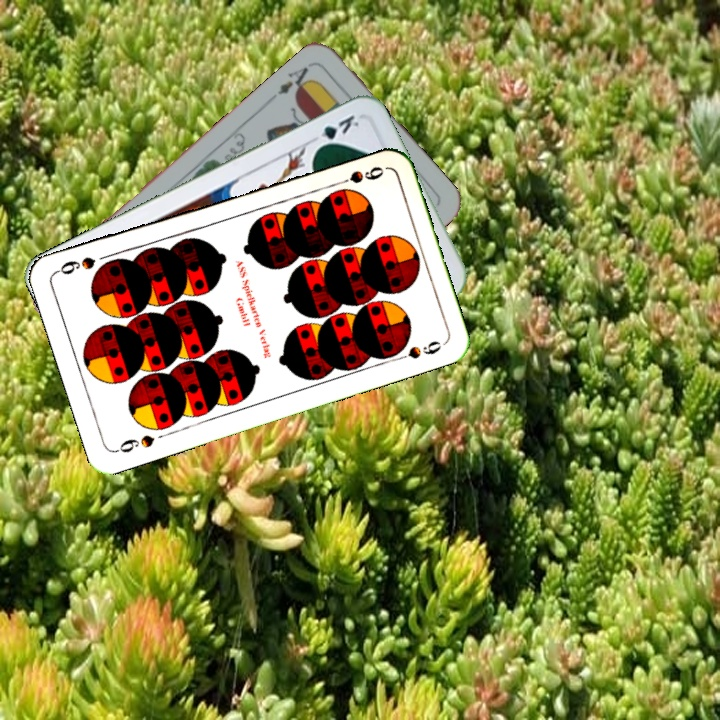EA: (273, 62, 317, 100)
GK: (310, 110, 362, 152)
S9: (330, 162, 387, 189), (111, 430, 157, 456)
